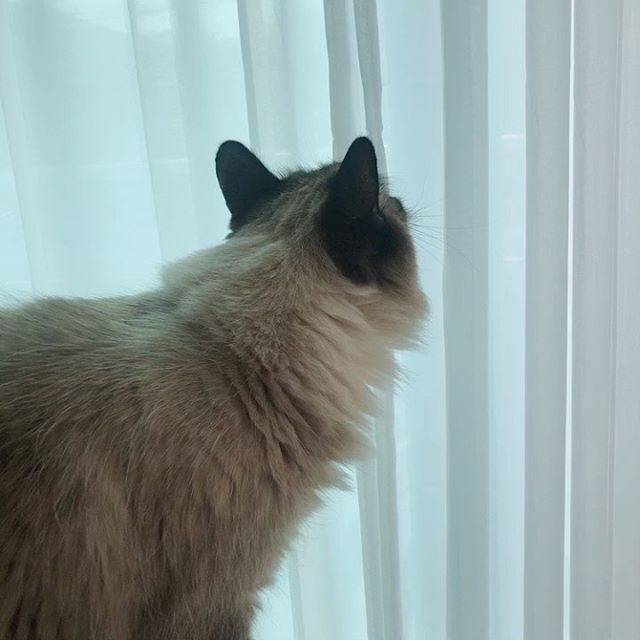cat: (205, 131, 433, 351)
